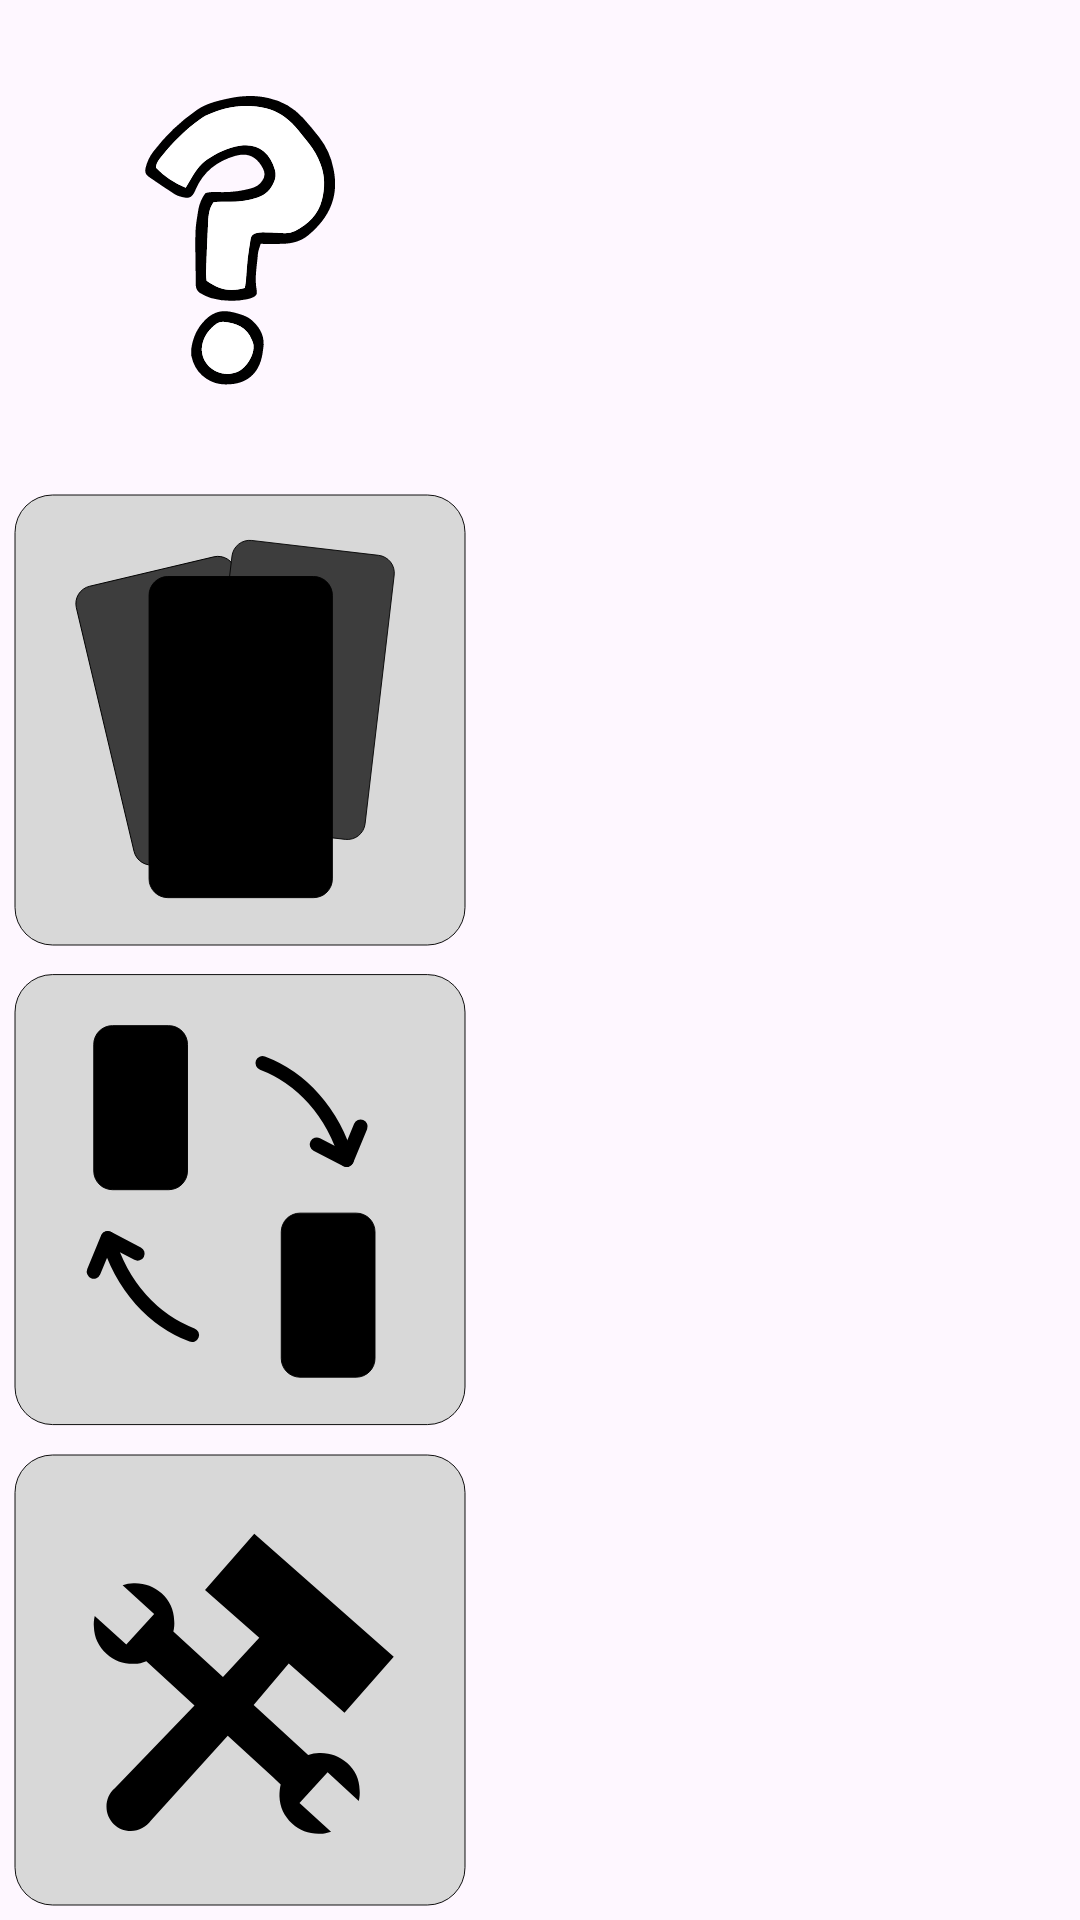

Named icons in this screenshot (1080w x 1920h) and their centers, (x,y):
question: (240,240)
